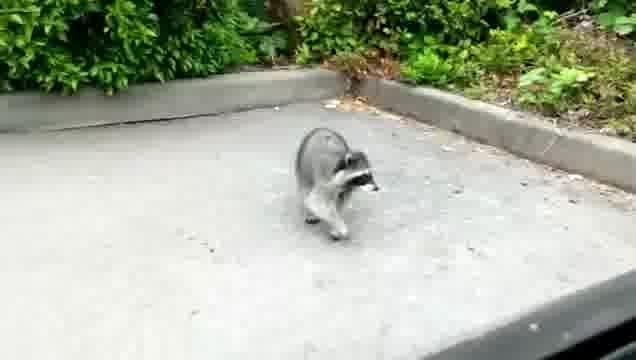raccoon: (293, 125, 382, 245)
